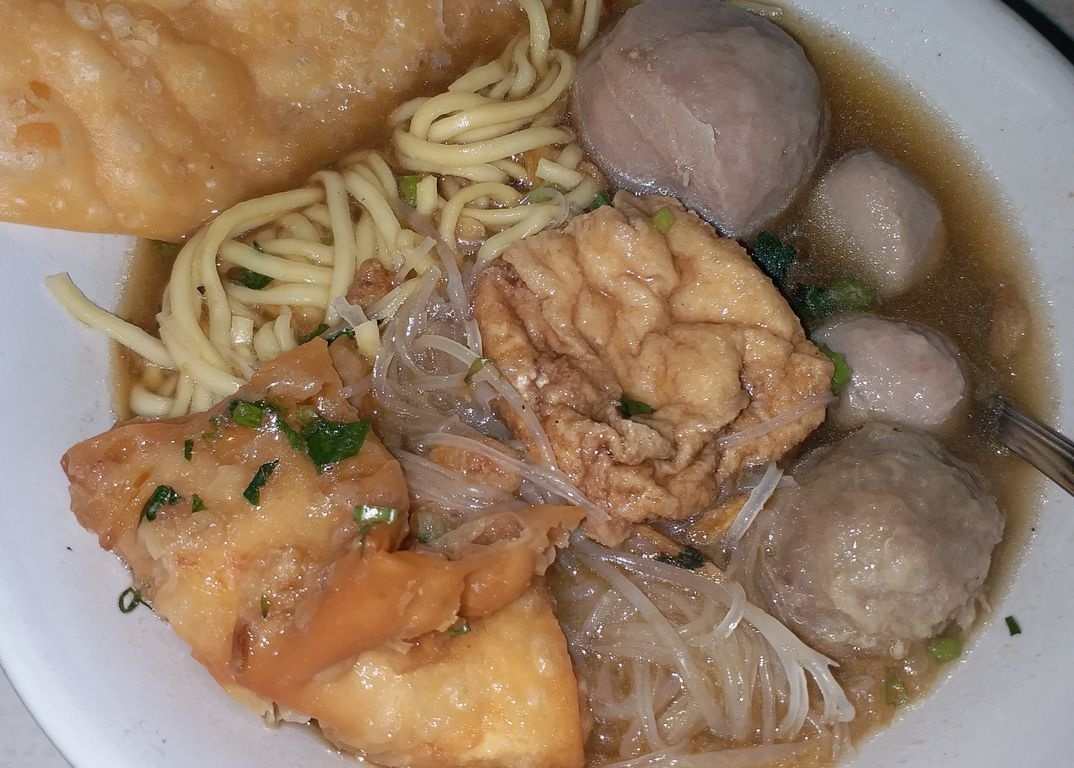bakso_malang: (7, 1, 1061, 768)
